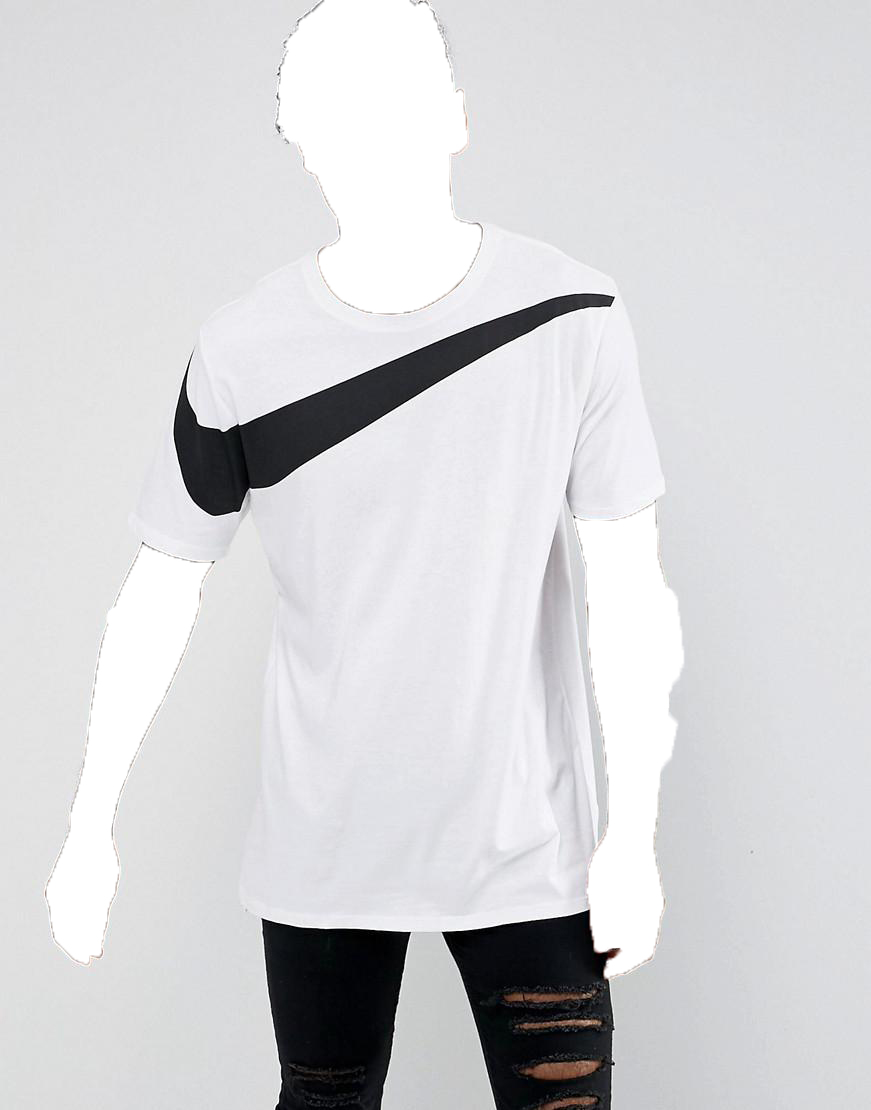teeshirt: (124, 222, 666, 929)
